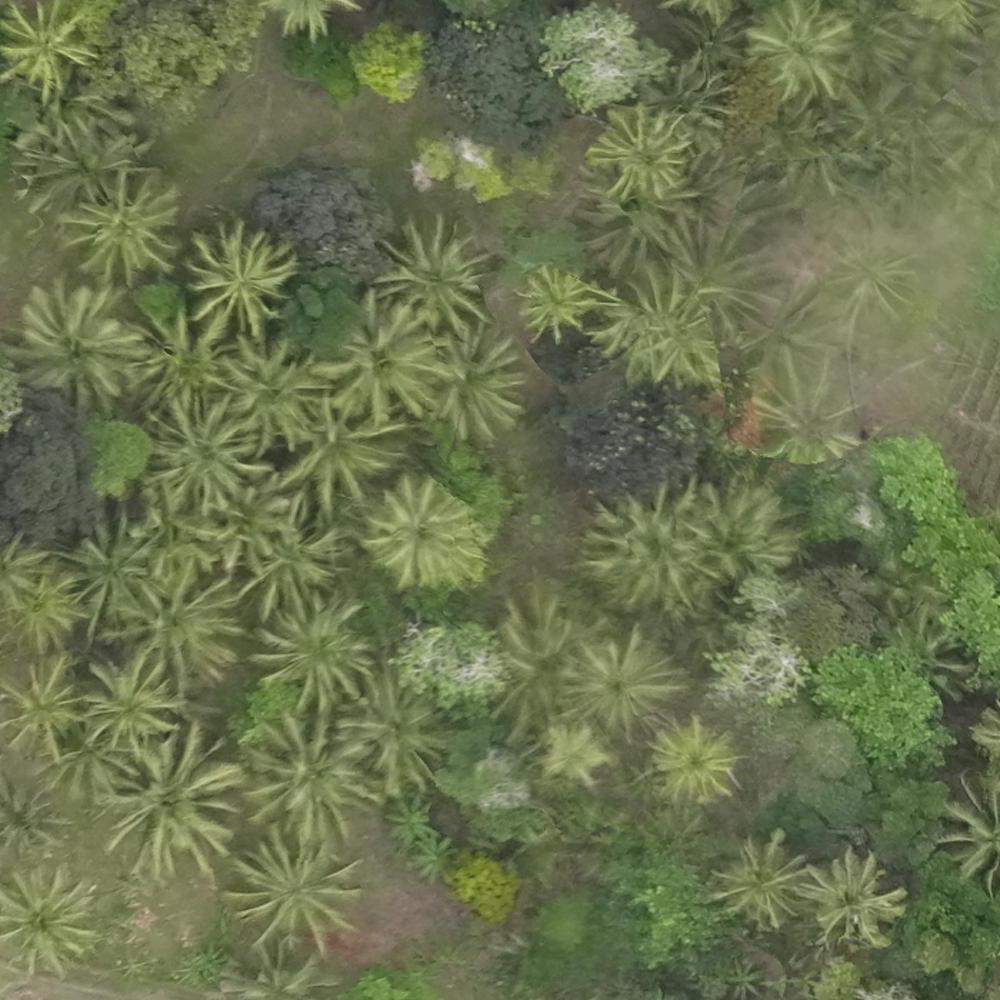Palm: (98, 737, 243, 868), (311, 296, 442, 424), (226, 829, 359, 948), (243, 716, 372, 833), (108, 562, 238, 677), (337, 667, 449, 790), (584, 492, 707, 604), (255, 596, 374, 708), (15, 286, 134, 397), (209, 333, 322, 448), (282, 402, 405, 507), (604, 268, 712, 379), (378, 221, 492, 325), (429, 324, 529, 442), (234, 509, 346, 614), (143, 400, 252, 507), (62, 172, 172, 278), (128, 304, 232, 415), (370, 479, 476, 586), (693, 480, 800, 585), (182, 223, 287, 329), (567, 630, 672, 732), (60, 518, 160, 625), (3, 867, 98, 975), (30, 114, 133, 211), (803, 851, 905, 945), (748, 5, 847, 100), (588, 109, 688, 200), (1, 2, 97, 96), (1, 658, 88, 755), (82, 661, 178, 746), (715, 834, 802, 926), (648, 717, 738, 799), (2, 566, 82, 652), (516, 264, 594, 338), (532, 719, 609, 791)
